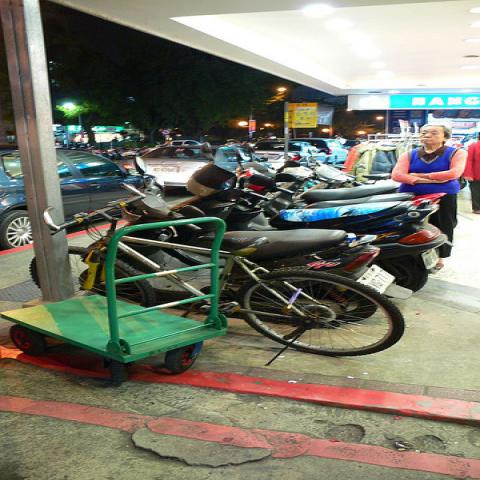car: (0, 147, 165, 249), (140, 144, 276, 189), (252, 140, 328, 166), (291, 137, 352, 165), (171, 140, 203, 146)
motorcycle: (173, 179, 455, 290), (224, 226, 418, 302), (237, 174, 447, 206), (259, 173, 401, 215), (297, 159, 368, 196)
